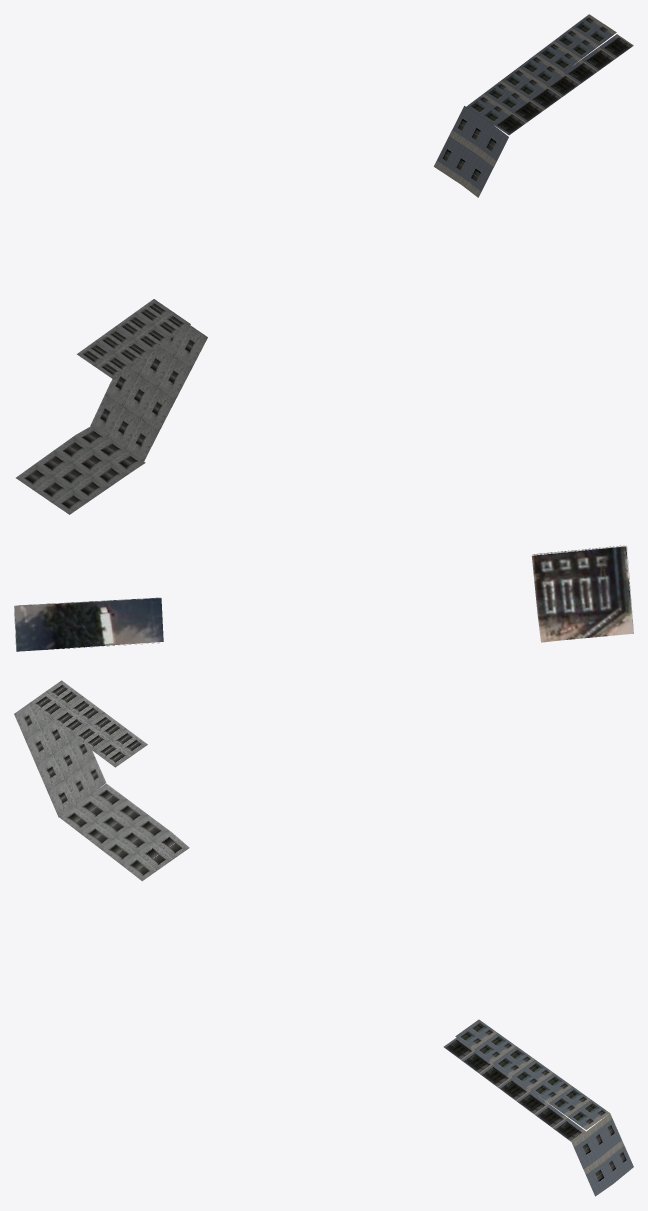
File: tile_LOD4_r2_c4.glb
3 views of the same model, one above another, from view 1: azimuth 30°, elevation 25°; view 2: azimuth 150°, elevation 25°; view 3: azimuth 270°, elevation 25° (orthographic). The views are drawn at different scales.
Bounding box in the file's own units: 152 × 29 × 104.
Materials: 10 (10 with a texture image).
